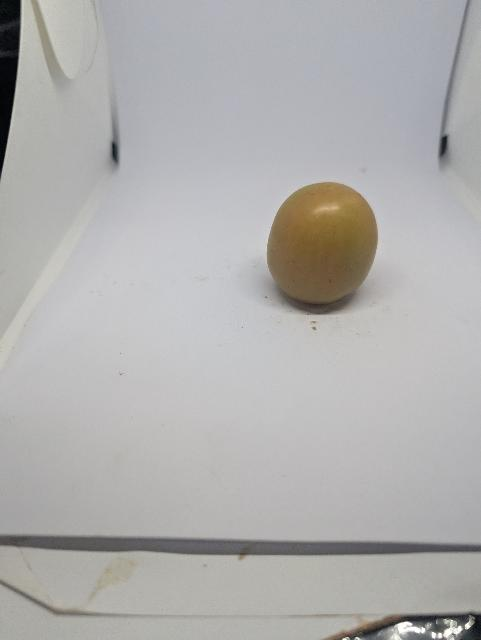turning: (260, 172, 390, 321)
